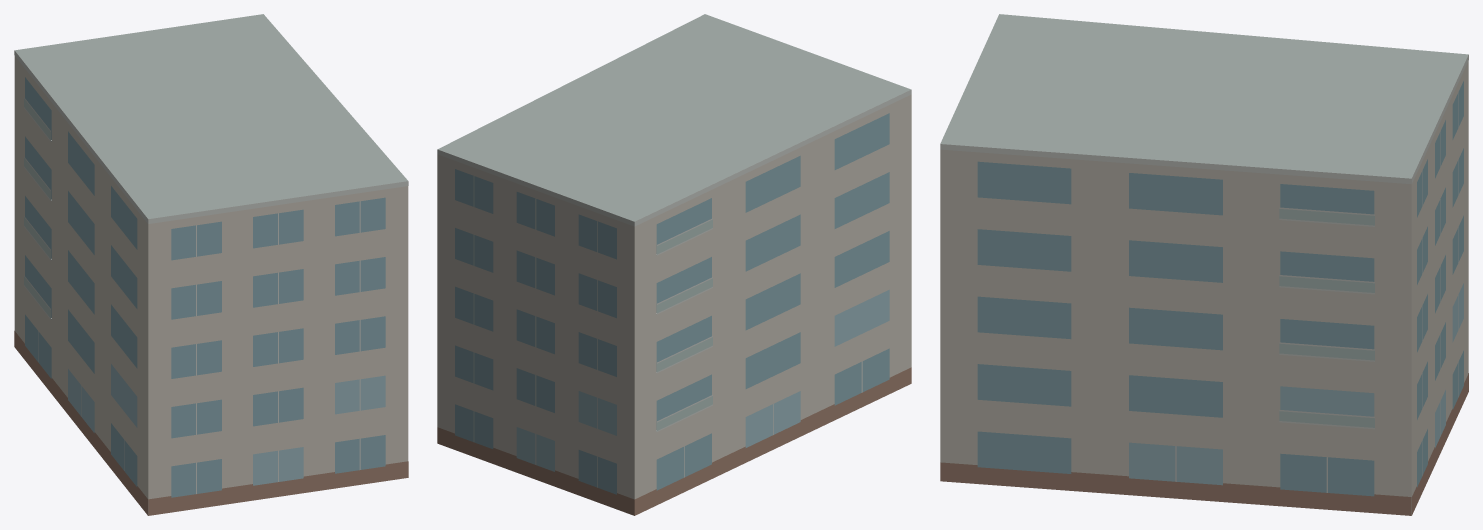
The model's file is survey-upis-32917092.glb.
3 renders of one model, left to right at view 1: azimuth 30°, elevation 25°; view 2: azimuth 150°, elevation 25°; view 3: azimuth 270°, elevation 25°, orthographic. The views are drawn at different scales.
Visible parts, largest first — view 1: survey-upis-32917092.tmp; view 2: survey-upis-32917092.tmp; view 3: survey-upis-32917092.tmp.
Boxes of the visible parts, x1,y1,x2,y2 form: survey-upis-32917092.tmp: (14,14,408,515); survey-upis-32917092.tmp: (437,14,911,515); survey-upis-32917092.tmp: (940,14,1468,515).
Size of the model in its own units: 15.45 by 14.75 by 20.96.
